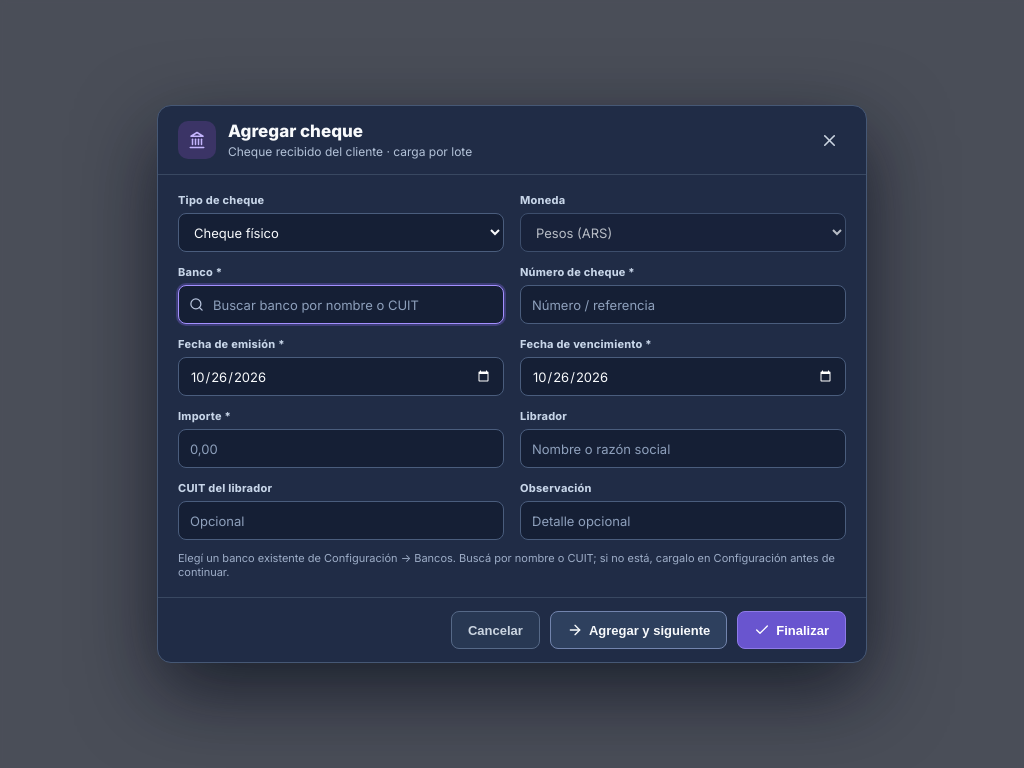
Test case: Carga por lote de cheques › impide incorporar bancos no configurados y números duplicados del recibo
Type "Banco inventado" into the field labelled "Buscar banco por nombre o CUIT" at (341, 304), box [178,285,504,324]
Type "101" into the field with placeholder "Número / referencia" at (683, 304), box [520,285,846,324]
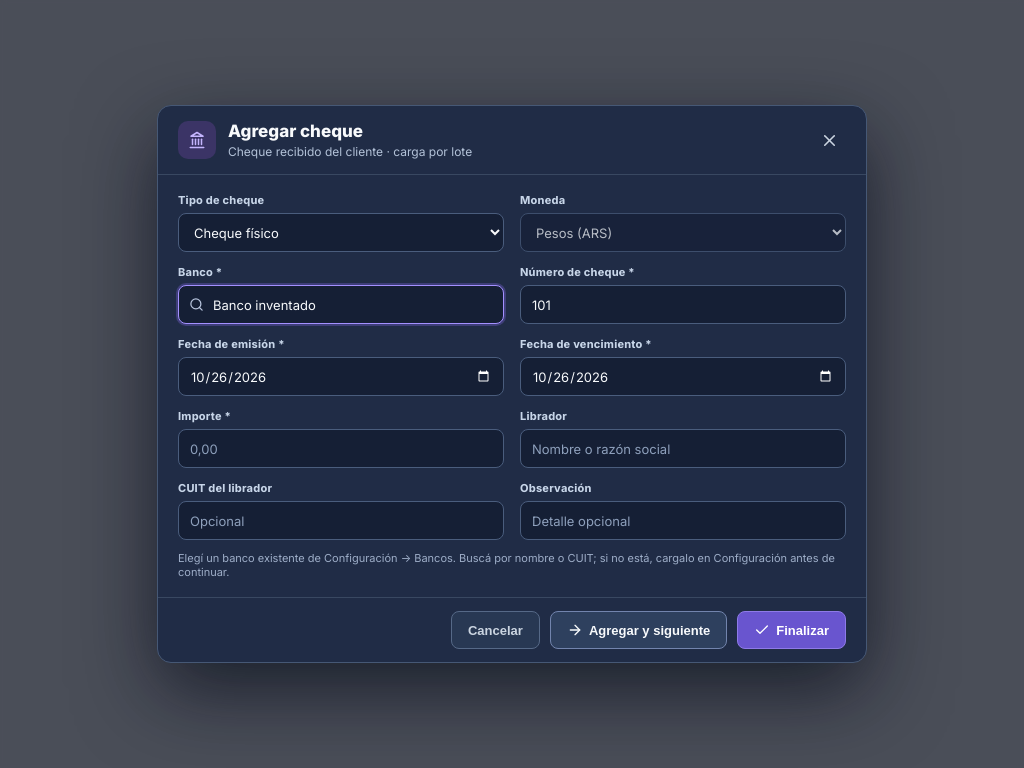
Type "9000" into the number field with placeholder "0,00" at (341, 448), box [178,429,504,468]
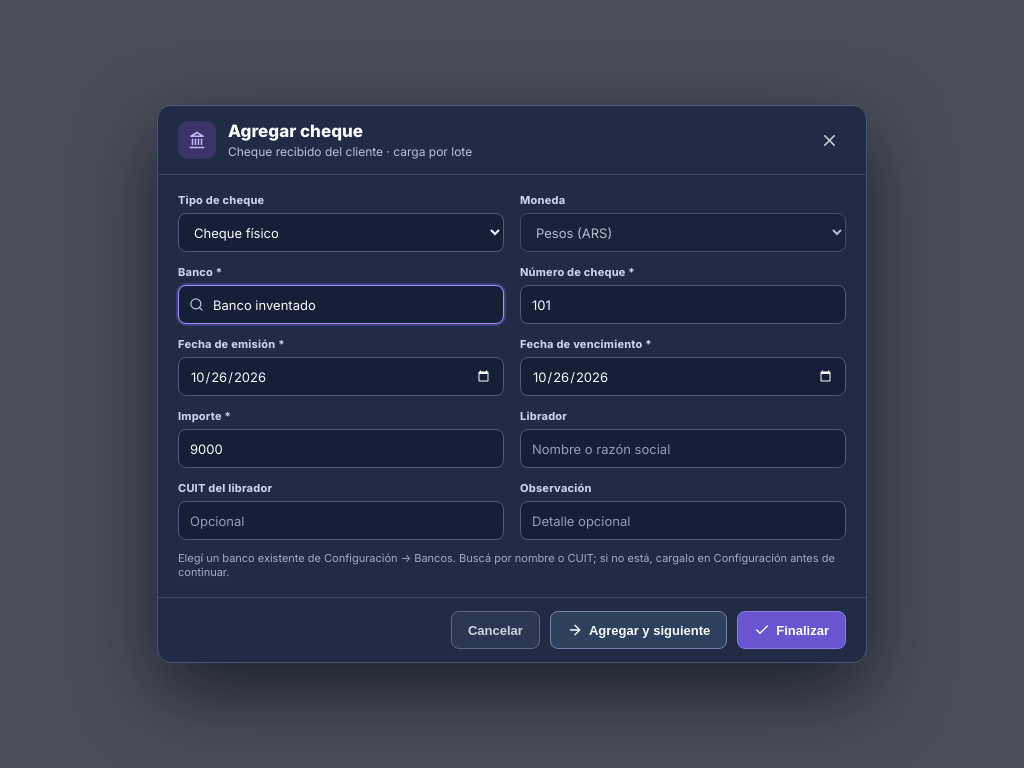
Click the button "Finalizar" at (792, 630), box [737,611,846,649]
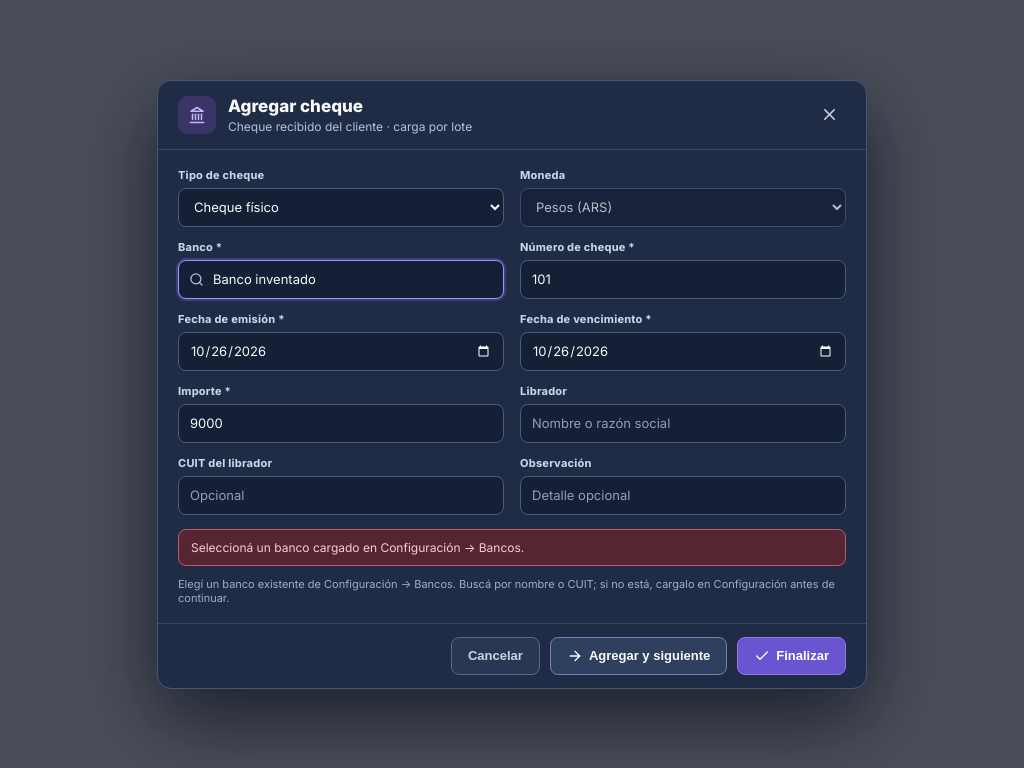
Expected: the message shows "Configuración", [191,540,524,554]
Replace the text in the field named "Buscar banco por nombre o CUIT" with "Banco Nación" at (341, 279), box [178,260,504,298]
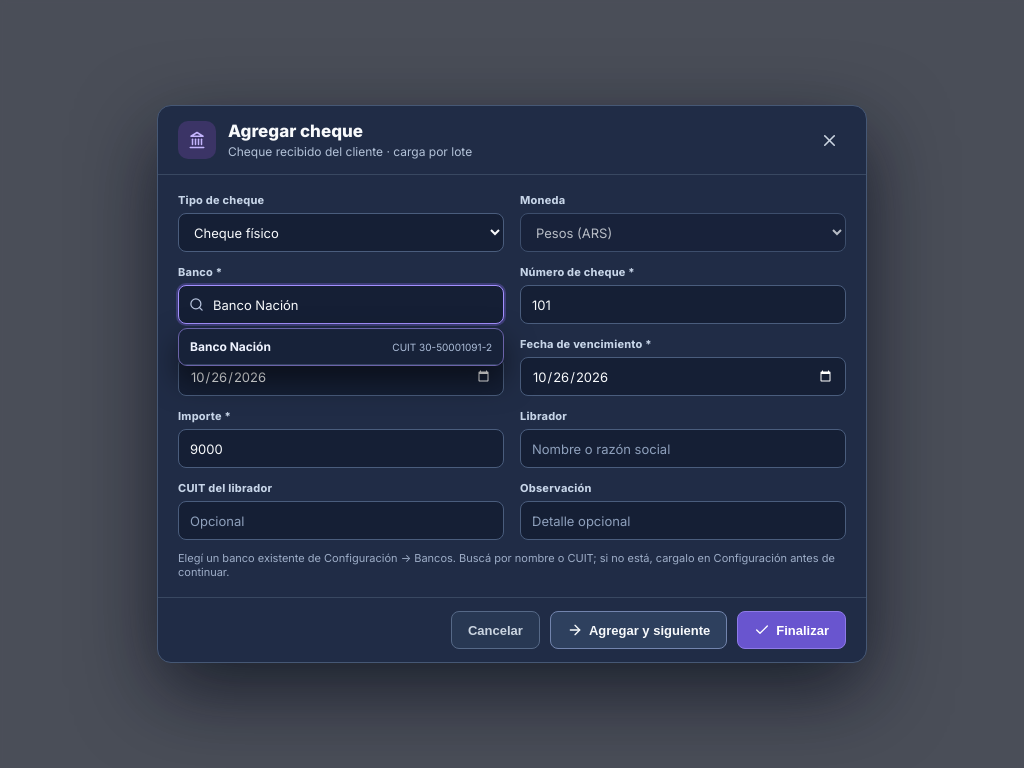
Replace the text in the field with placeholder "Número / referencia" with "100" at (683, 304), box [520,285,846,324]
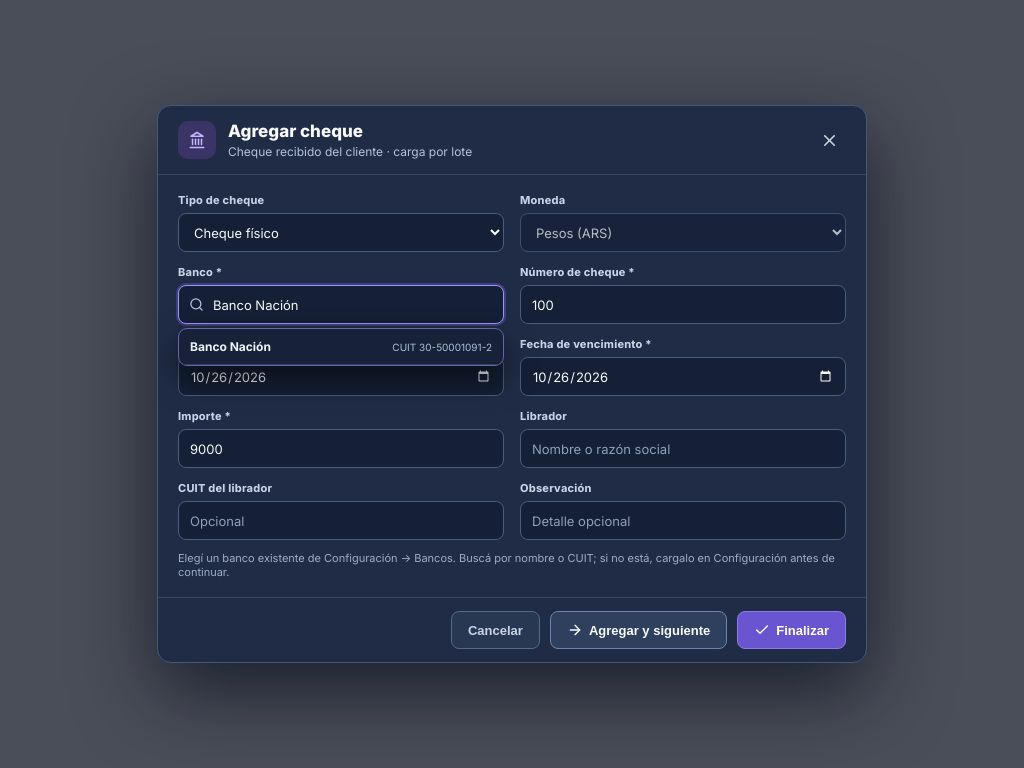
Click the button "Finalizar" at (792, 630), box [737,611,846,649]
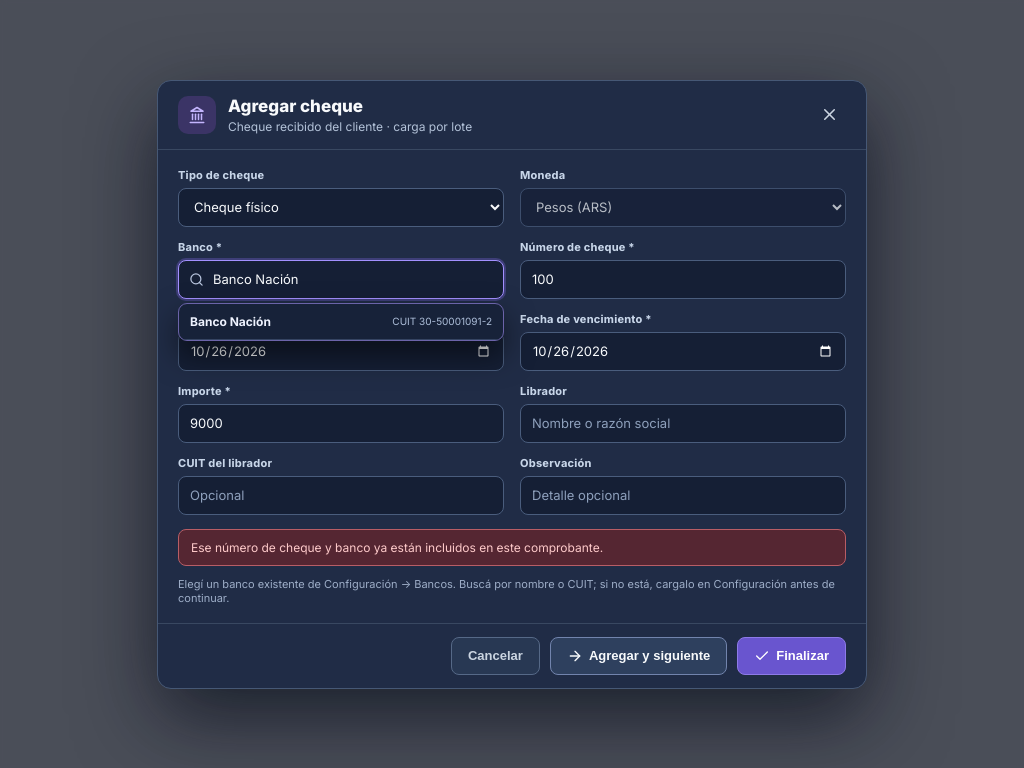
Expected: the message shows "ya están incluidos", [191,540,603,554]
